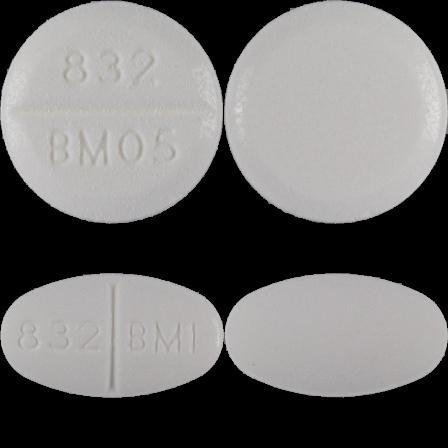76237-274: (0, 0, 224, 224)
